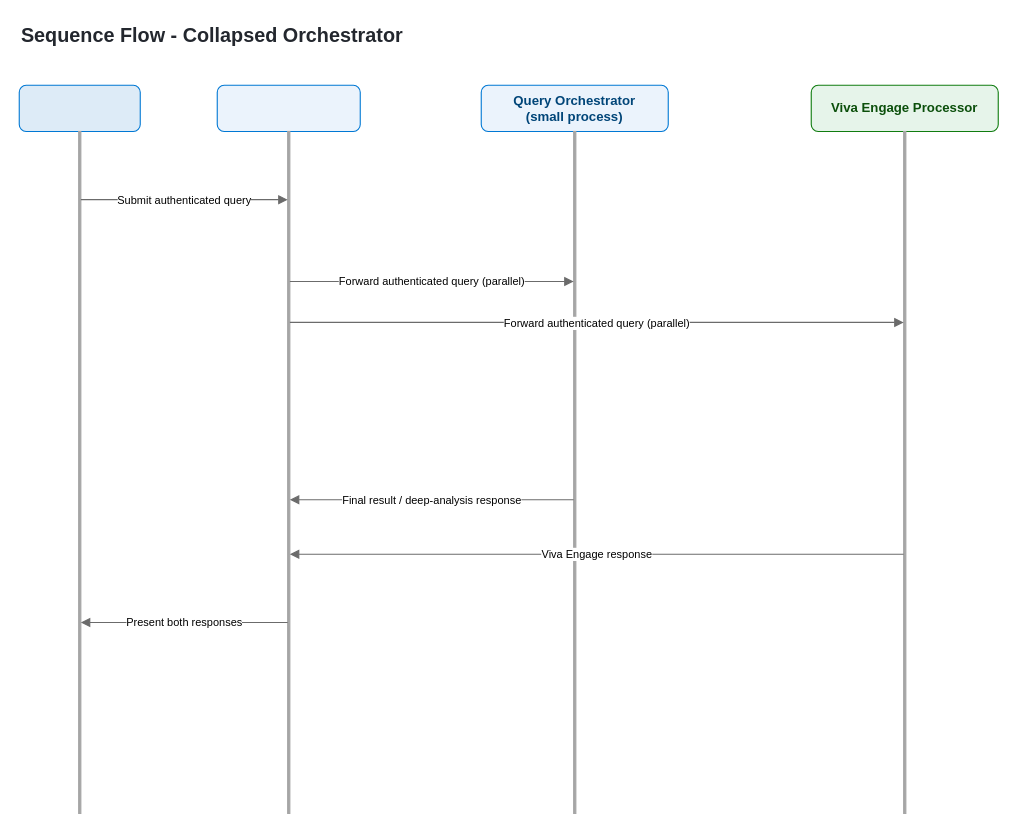
The diagram is 1018 pixels wide and 833 high, and some of its shapes have lost their labels. The shapes that lost their labels are listed below. From the top down, each one's centre as x and y in pixels, then its label:
(x=79, y=107): User
(x=288, y=107): Web / Chat App
